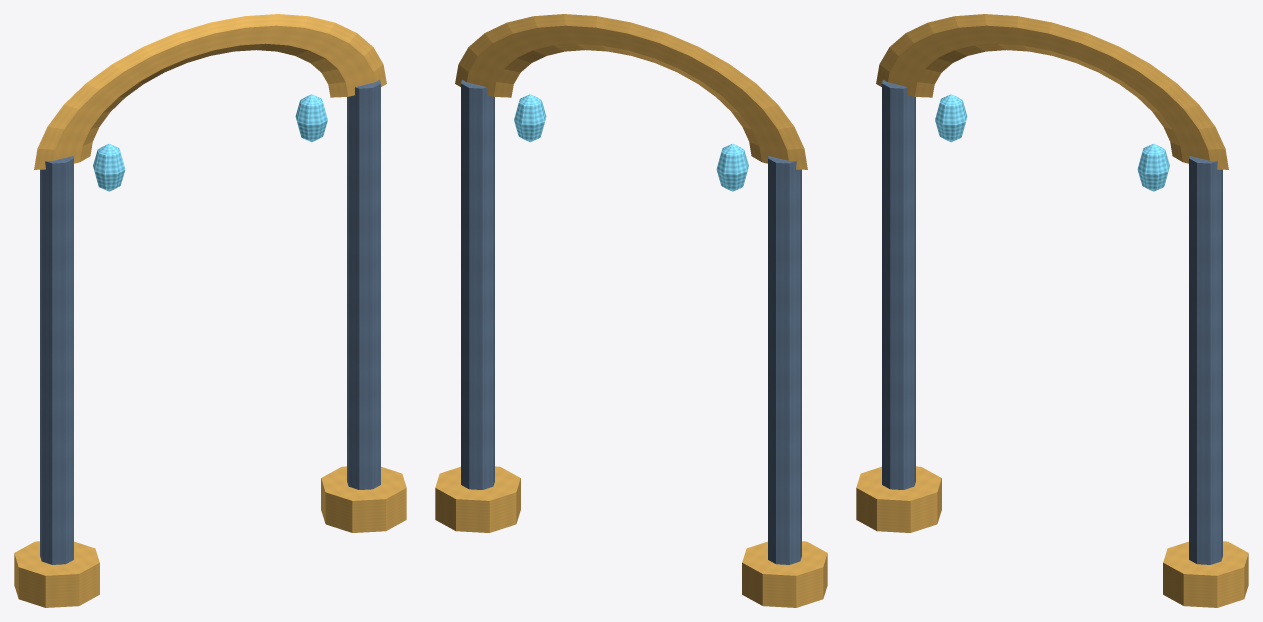
Rendered from atlas100-s051-a09.glb.
3 views of the same model, side by side, from view 1: azimuth 30°, elevation 25°; view 2: azimuth 150°, elevation 25°; view 3: azimuth 330°, elevation 25° (orthographic).
Visible parts, largest first — view 1: atlas100-s051-a09:part-004, atlas100-s051-a09:part-000, atlas100-s051-a09:part-002, atlas100-s051-a09:part-001, atlas100-s051-a09:part-003, atlas100-s051-a09:part-005, atlas100-s051-a09:part-006; view 2: atlas100-s051-a09:part-004, atlas100-s051-a09:part-000, atlas100-s051-a09:part-002, atlas100-s051-a09:part-001, atlas100-s051-a09:part-003, atlas100-s051-a09:part-005, atlas100-s051-a09:part-006; view 3: atlas100-s051-a09:part-004, atlas100-s051-a09:part-002, atlas100-s051-a09:part-000, atlas100-s051-a09:part-003, atlas100-s051-a09:part-001, atlas100-s051-a09:part-005, atlas100-s051-a09:part-006.
Boxes of the visible parts, box(x1,y1,x2,y2) form: atlas100-s051-a09:part-004: box(34, 14, 386, 169); atlas100-s051-a09:part-000: box(40, 156, 73, 564); atlas100-s051-a09:part-002: box(347, 79, 380, 489); atlas100-s051-a09:part-001: box(14, 541, 99, 607); atlas100-s051-a09:part-003: box(321, 466, 406, 532); atlas100-s051-a09:part-005: box(93, 143, 125, 191); atlas100-s051-a09:part-006: box(295, 94, 327, 142); atlas100-s051-a09:part-004: box(455, 14, 807, 169); atlas100-s051-a09:part-000: box(768, 156, 801, 564); atlas100-s051-a09:part-002: box(461, 79, 494, 489); atlas100-s051-a09:part-001: box(742, 541, 827, 607); atlas100-s051-a09:part-003: box(435, 466, 520, 532); atlas100-s051-a09:part-005: box(716, 143, 748, 191); atlas100-s051-a09:part-006: box(514, 94, 546, 142); atlas100-s051-a09:part-004: box(876, 14, 1228, 169); atlas100-s051-a09:part-002: box(1189, 156, 1222, 564); atlas100-s051-a09:part-000: box(882, 79, 915, 489); atlas100-s051-a09:part-003: box(1163, 541, 1248, 607); atlas100-s051-a09:part-001: box(856, 466, 941, 532); atlas100-s051-a09:part-005: box(935, 94, 967, 142); atlas100-s051-a09:part-006: box(1137, 143, 1169, 191).
Size of the model in its own units: 2.5 by 3.3 by 0.5.
Materials: 3 (3 with a texture image).
